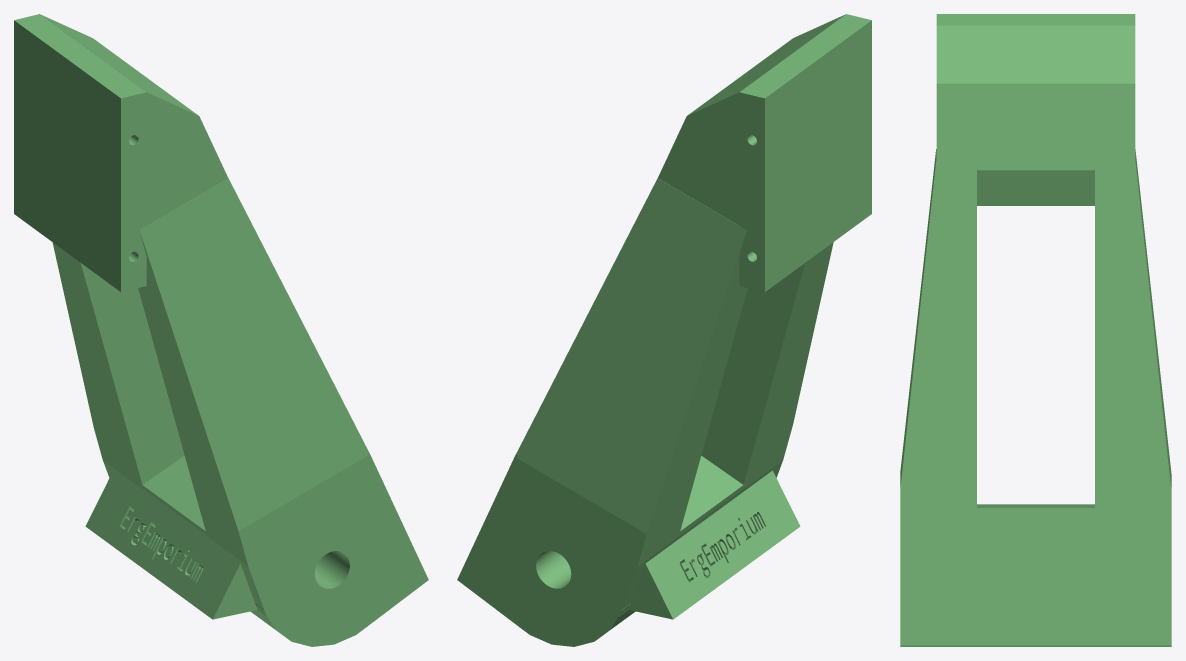
File: concept-2-arm.glb
3 renders of one model, left to right at view 1: azimuth 30°, elevation 25°; view 2: azimuth 150°, elevation 25°; view 3: azimuth 270°, elevation 25°, orthographic. The views are drawn at different scales.
Visible parts, largest first — view 1: Mesh_Mesh_head_geo.001_lambert2SG.001; view 2: Mesh_Mesh_head_geo.001_lambert2SG.001; view 3: Mesh_Mesh_head_geo.001_lambert2SG.001.
Boxes of the visible parts, x1=… form: Mesh_Mesh_head_geo.001_lambert2SG.001: x1=14, y1=14, x2=428, y2=646; Mesh_Mesh_head_geo.001_lambert2SG.001: x1=457, y1=14, x2=871, y2=646; Mesh_Mesh_head_geo.001_lambert2SG.001: x1=900, y1=14, x2=1171, y2=646.
Size of the model in its own units: 90.34 by 173 by 78.99.
